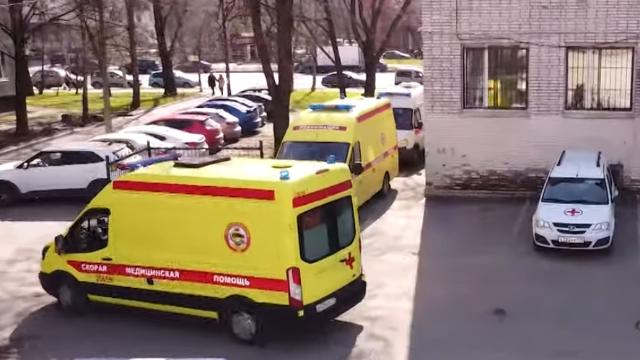ambulance: (533, 148, 622, 254), (377, 85, 426, 174)
intensive care unit: (39, 159, 365, 342), (279, 99, 395, 222)
non emergency car: (4, 140, 145, 204), (31, 68, 88, 93), (89, 69, 144, 89), (150, 72, 201, 91)
